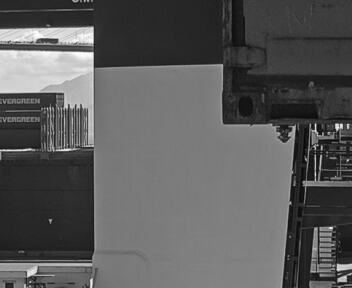twist_lock_2: (112, 166, 175, 207)
